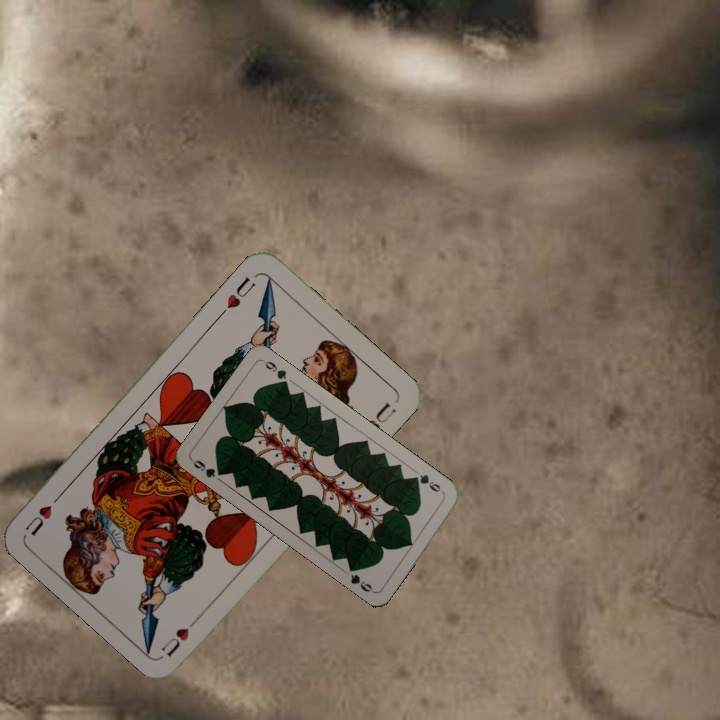G9: (188, 456, 227, 480), (409, 470, 443, 495)
HU: (157, 610, 204, 659), (215, 272, 259, 319)
